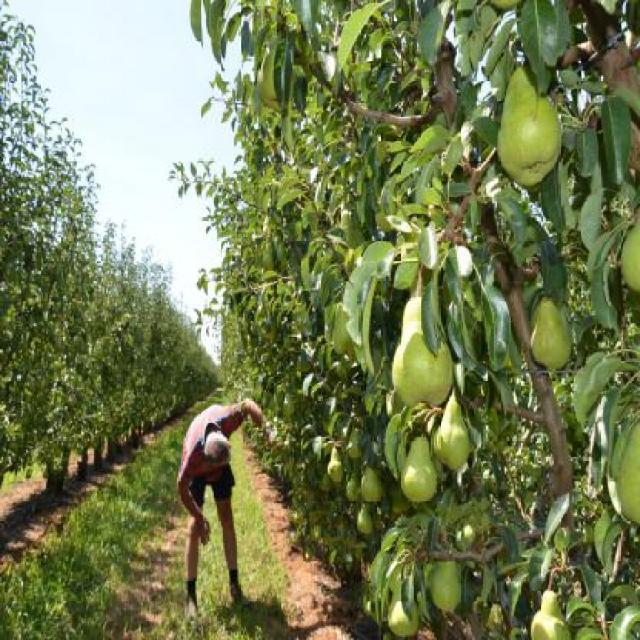Pear: (498, 68, 562, 188), (393, 299, 449, 410), (606, 406, 639, 528), (530, 302, 572, 378), (433, 398, 470, 471), (400, 436, 437, 506), (384, 576, 420, 638), (429, 558, 462, 614), (529, 590, 565, 639), (622, 215, 638, 303), (460, 520, 488, 566), (358, 466, 384, 503), (358, 508, 376, 534), (328, 448, 340, 486), (342, 476, 356, 504), (348, 432, 360, 459)
